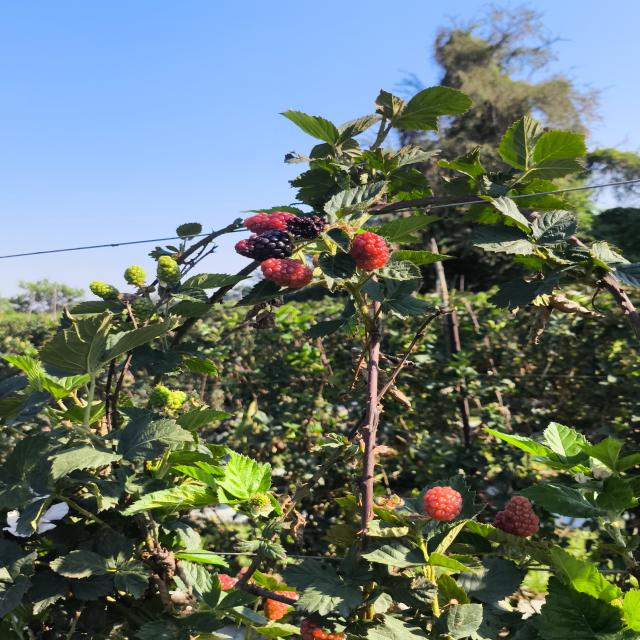maduro: (236, 230, 292, 262)
naranja: (493, 496, 539, 537), (348, 232, 389, 271), (261, 258, 312, 288), (423, 486, 461, 521), (244, 211, 295, 235), (300, 619, 344, 640), (263, 599, 288, 620), (275, 591, 293, 597)
verde: (157, 256, 180, 282), (89, 281, 119, 300), (149, 385, 171, 407), (131, 298, 154, 317), (124, 265, 145, 284), (167, 391, 187, 410)
